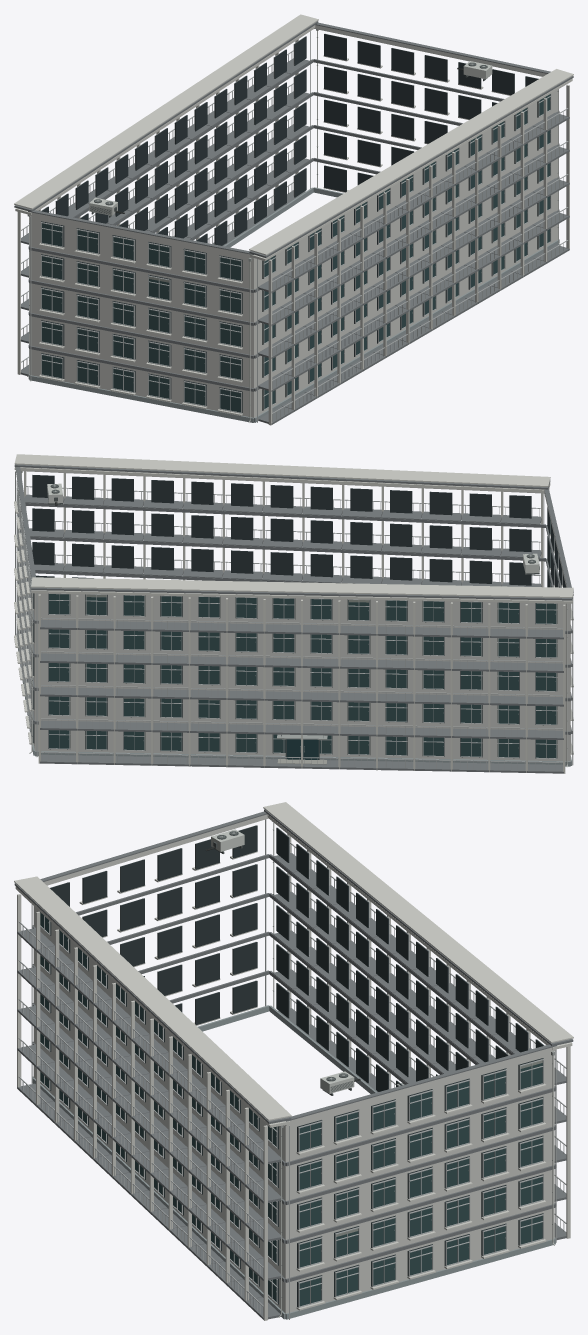
The model's file is njupt_k_dormitory_01.glb.
The picture shows the model from 3 angles, top to bottom: view 1: azimuth 30°, elevation 25°; view 2: azimuth 150°, elevation 25°; view 3: azimuth 270°, elevation 25°; orthographic projection. The views are drawn at different scales.
Visible parts, largest first — view 1: Windows and facade details | K组团宿舍（模型序号1）, Architecture | K组团宿舍（模型序号1）, Roof services | K组团宿舍（模型序号1）, EXTERIOR::njupt_k_dormitory_01::rainwater and roof service d; view 2: Windows and facade details | K组团宿舍（模型序号1）, Architecture | K组团宿舍（模型序号1）, Roof services | K组团宿舍（模型序号1）, EXTERIOR::njupt_k_dormitory_01::rainwater and roof service d, EXTERIOR::njupt_k_dormitory_01::inferred entry doors canopy ; view 3: Windows and facade details | K组团宿舍（模型序号1）, Architecture | K组团宿舍（模型序号1）, Roof services | K组团宿舍（模型序号1）, EXTERIOR::njupt_k_dormitory_01::rainwater and roof service d.
Part boxes in pixels (left/top/right/bottom): Windows and facade details | K组团宿舍（模型序号1）: left=20, top=31, right=569, bottom=424; Architecture | K组团宿舍（模型序号1）: left=17, top=25, right=569, bottom=425; Roof services | K组团宿舍（模型序号1）: left=14, top=14, right=573, bottom=261; EXTERIOR::njupt_k_dormitory_01::rainwater and roof service d: left=27, top=29, right=560, bottom=422; Windows and facade details | K组团宿舍（模型序号1）: left=14, top=471, right=573, bottom=773; Architecture | K组团宿舍（模型序号1）: left=16, top=467, right=572, bottom=773; Roof services | K组团宿舍（模型序号1）: left=14, top=454, right=573, bottom=603; EXTERIOR::njupt_k_dormitory_01::rainwater and roof service d: left=21, top=471, right=567, bottom=767; EXTERIOR::njupt_k_dormitory_01::inferred entry doors canopy : left=277, top=734, right=327, bottom=764; Windows and facade details | K组团宿舍（模型序号1）: left=17, top=819, right=566, bottom=1319; Architecture | K组团宿舍（模型序号1）: left=17, top=814, right=570, bottom=1320; Roof services | K组团宿舍（模型序号1）: left=14, top=802, right=573, bottom=1127; EXTERIOR::njupt_k_dormitory_01::rainwater and roof service d: left=205, top=822, right=554, bottom=1317.
Bounding box in the file's own units: 63.56 × 19.48 × 47.33.
